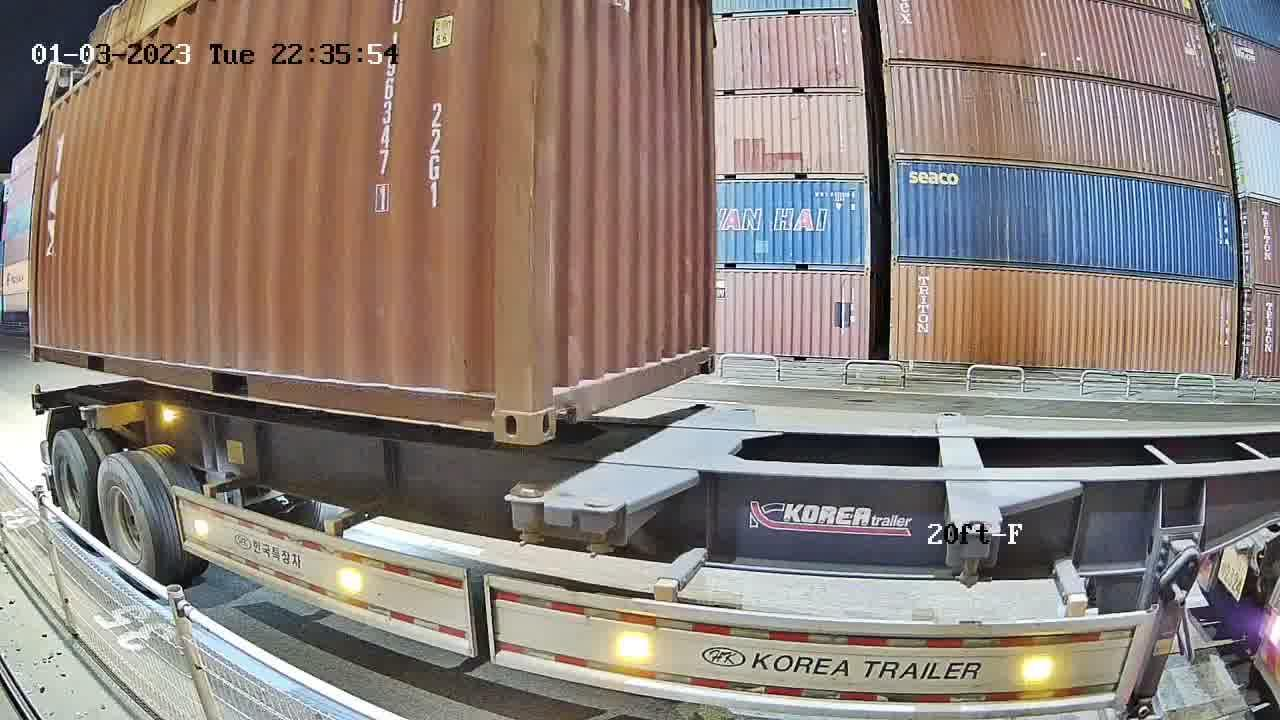Chassis: (509, 402, 715, 502), (580, 407, 753, 512)
Cone: (509, 480, 544, 545), (583, 496, 619, 557)
Hole_L: (532, 358, 587, 449)
Hole_R: (456, 364, 533, 447), (686, 333, 716, 379)
Tire: (97, 455, 158, 593), (50, 434, 94, 545)
